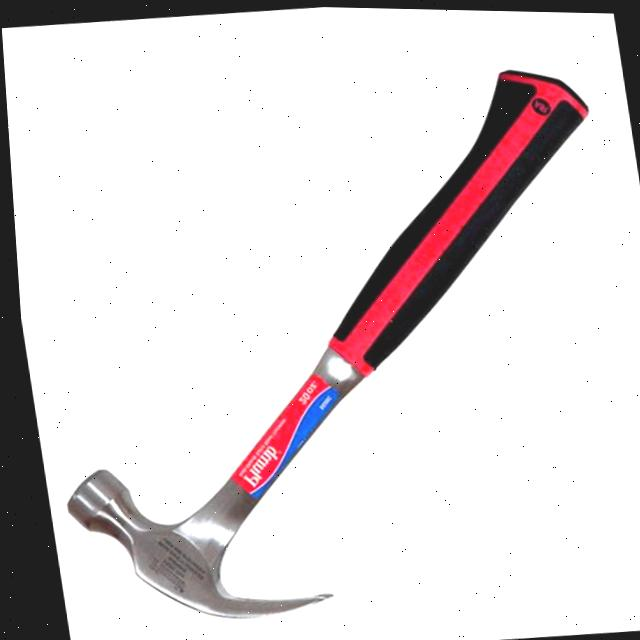hammer: (2, 44, 640, 640)
